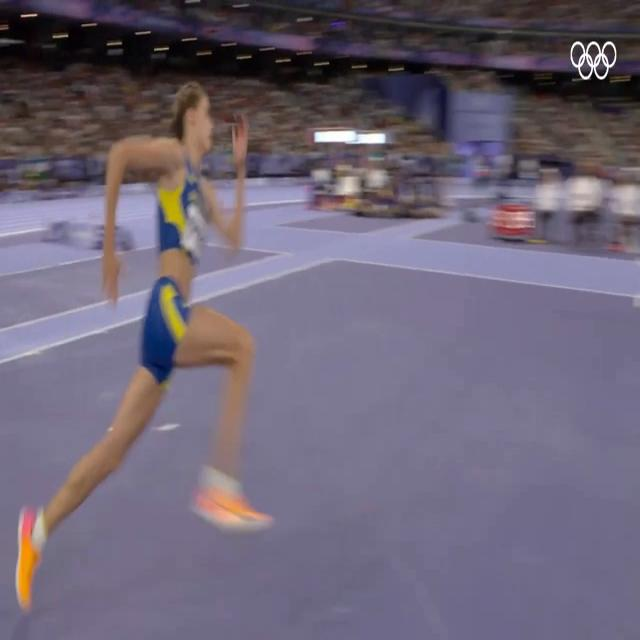run: (14, 78, 275, 613)
